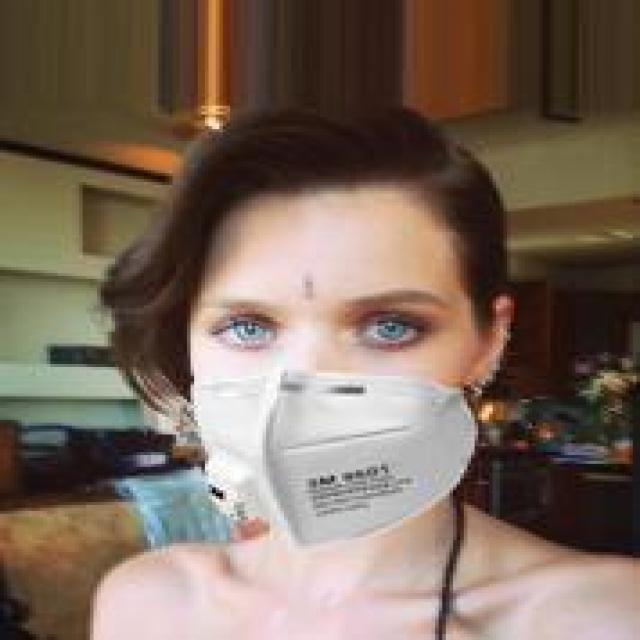mask: (104, 88, 536, 596)
